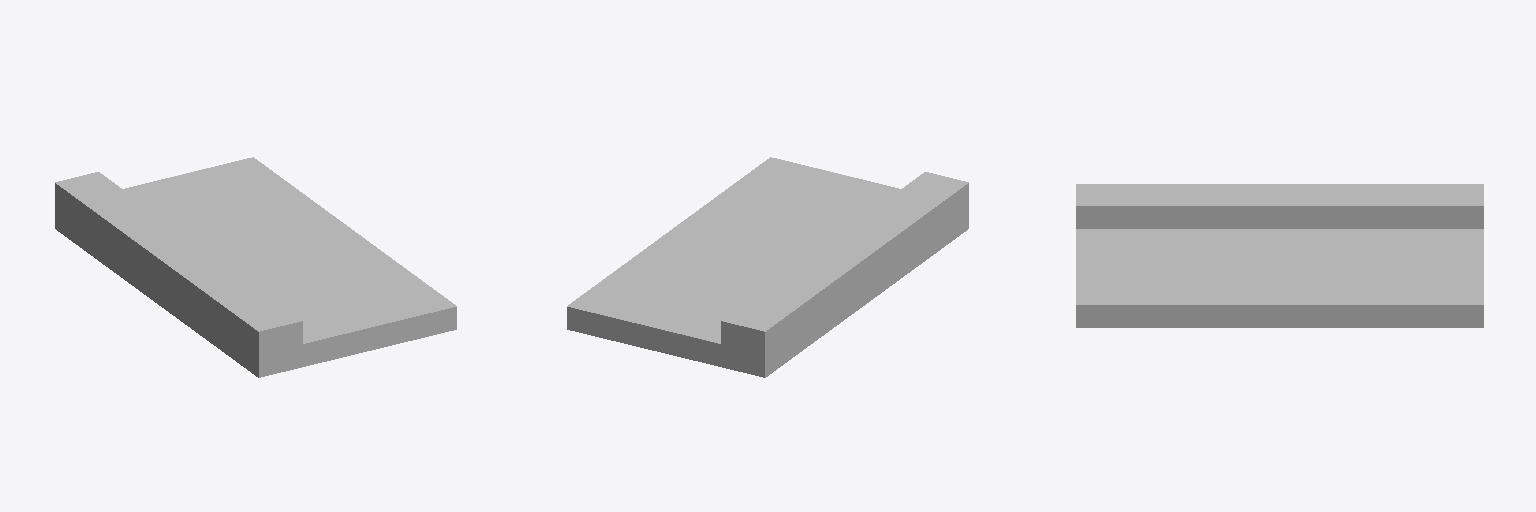
Rendered from 3D Voxel Park-65.obj.
The picture shows the model from 3 angles: view 1: azimuth 30°, elevation 25°; view 2: azimuth 150°, elevation 25°; view 3: azimuth 270°, elevation 25°; orthographic projection.
Parts seen in each view (by area): view 1: object 1; view 2: object 1; view 3: object 1.
Boxes of the visible parts, x1,y1,x2,y2 form: object 1: [55, 157, 456, 377]; object 1: [567, 157, 968, 377]; object 1: [1076, 184, 1483, 327].
Size of the model in its own units: 0.9 by 0.2 by 1.6.